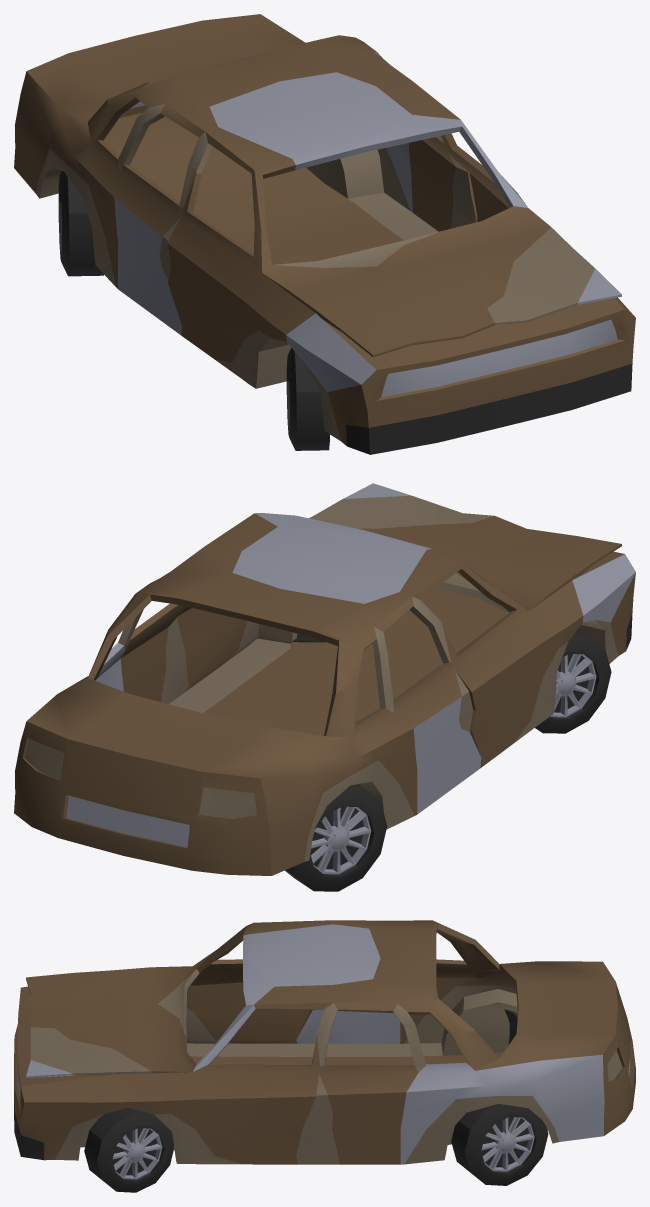
File: BrokenCar.gltf
The picture shows the model from 3 angles, top to bottom: view 1: azimuth 30°, elevation 25°; view 2: azimuth 150°, elevation 25°; view 3: azimuth 270°, elevation 25°; orthographic projection. The views are drawn at different scales.
Parts seen in each view (by area): view 1: Debris_BrokenCar; view 2: Debris_BrokenCar; view 3: Debris_BrokenCar.
Boxes of the visible parts, x1,y1,x2,y2 form: Debris_BrokenCar: [14, 14, 635, 454]; Debris_BrokenCar: [14, 483, 635, 891]; Debris_BrokenCar: [14, 920, 635, 1192].
Bounding box in the file's own units: 2.64 × 1.76 × 5.49.
